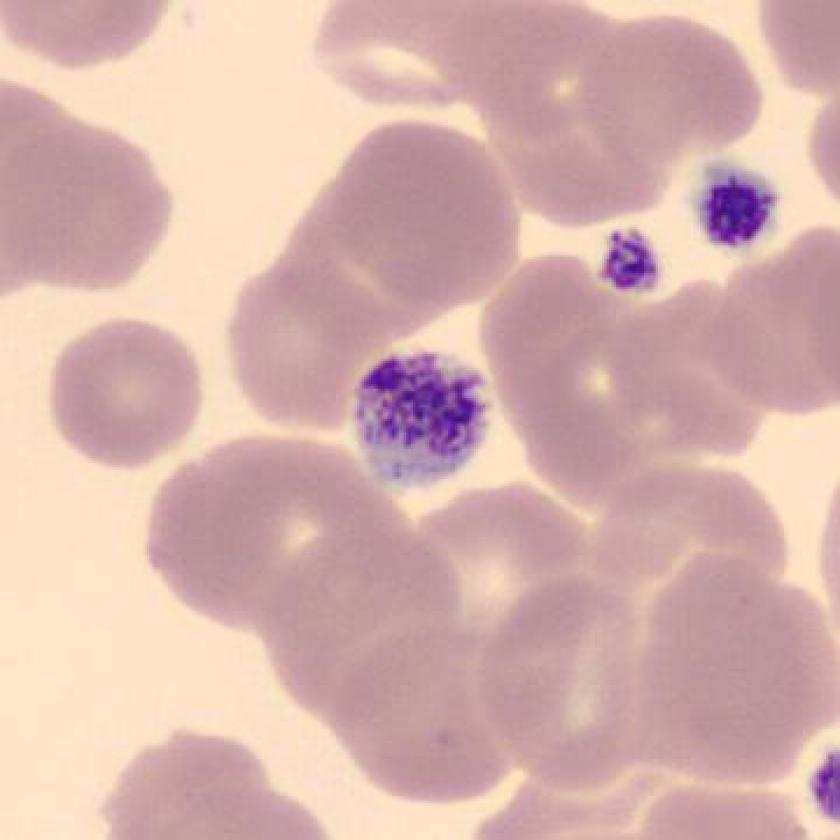platelets: (339, 336, 503, 501), (682, 147, 790, 262), (587, 212, 668, 316)
